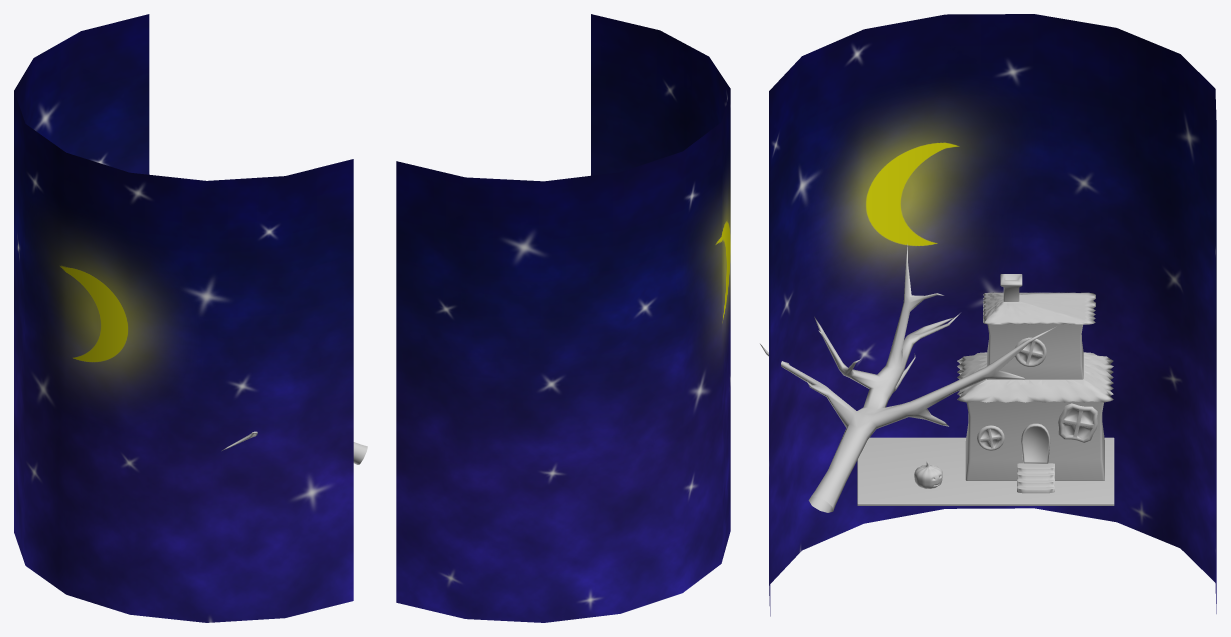
The model's file is CasaBrujas.obj.
The picture shows the model from 3 angles, left to right: view 1: azimuth 30°, elevation 25°; view 2: azimuth 150°, elevation 25°; view 3: azimuth 270°, elevation 25°; orthographic projection. The views are drawn at different scales.
Parts seen in each view (by area): view 1: Cylinder; view 2: Cylinder; view 3: Cylinder, Cube_001.
Part boxes in pixels (x1=…): Cylinder: x1=14, y1=14, x2=353, y2=622; Cylinder: x1=396, y1=14, x2=730, y2=622; Cylinder: x1=769, y1=14, x2=1216, y2=616; Cube_001: x1=760, y1=244, x2=1114, y2=512.
Bounding box in the file's own units: 21.03 × 35.91 × 30.11.
